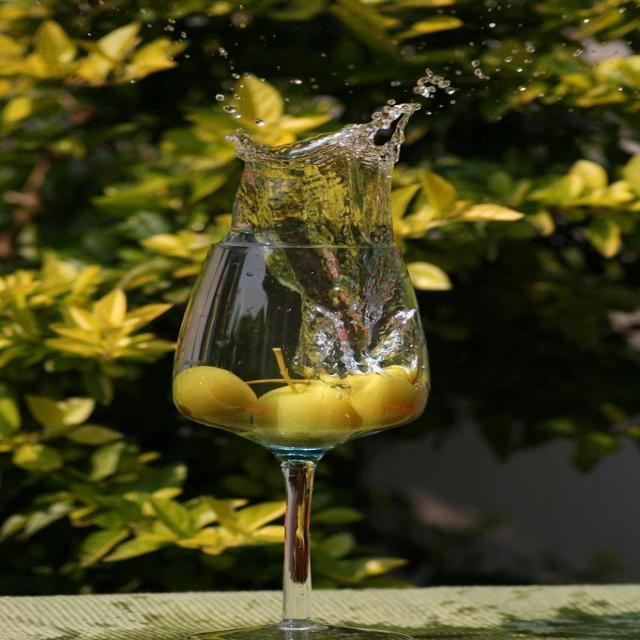glass-wine: (171, 240, 430, 639)
